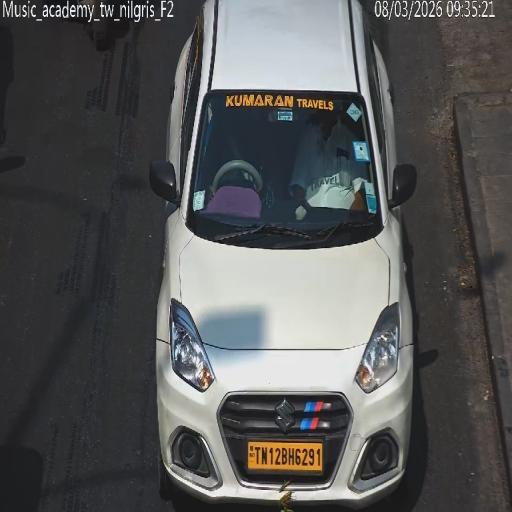person_with_seatbelt: (216, 113, 245, 171)
person_without_seatbelt: (306, 125, 356, 181)
